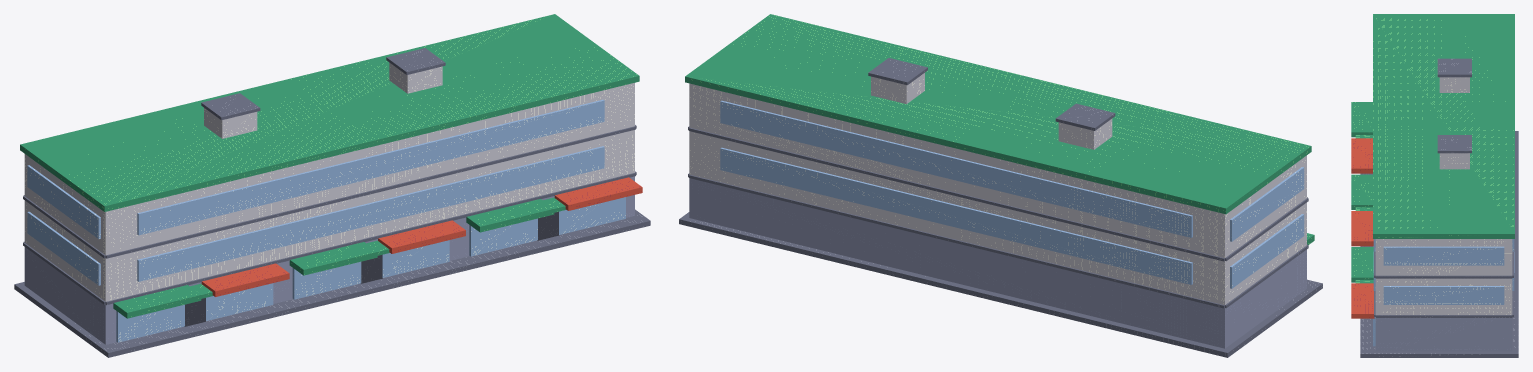
Rendered from com-3x1-l3.glb.
3 views of the same model, side by side, from view 1: azimuth 30°, elevation 25°; view 2: azimuth 150°, elevation 25°; view 3: azimuth 270°, elevation 25° (orthographic). The views are drawn at different scales.
Parts seen in each view (by area): view 1: com-3x1-l3; view 2: com-3x1-l3; view 3: com-3x1-l3.
Boxes of the visible parts, x1=… form: com-3x1-l3: x1=14, y1=14, x2=650, y2=357; com-3x1-l3: x1=679, y1=14, x2=1322, y2=357; com-3x1-l3: x1=1351, y1=14, x2=1518, y2=357.
Bounding box in the file's own units: 5.86 × 1.74 × 1.86.
Materials: 1 (1 with a texture image).
